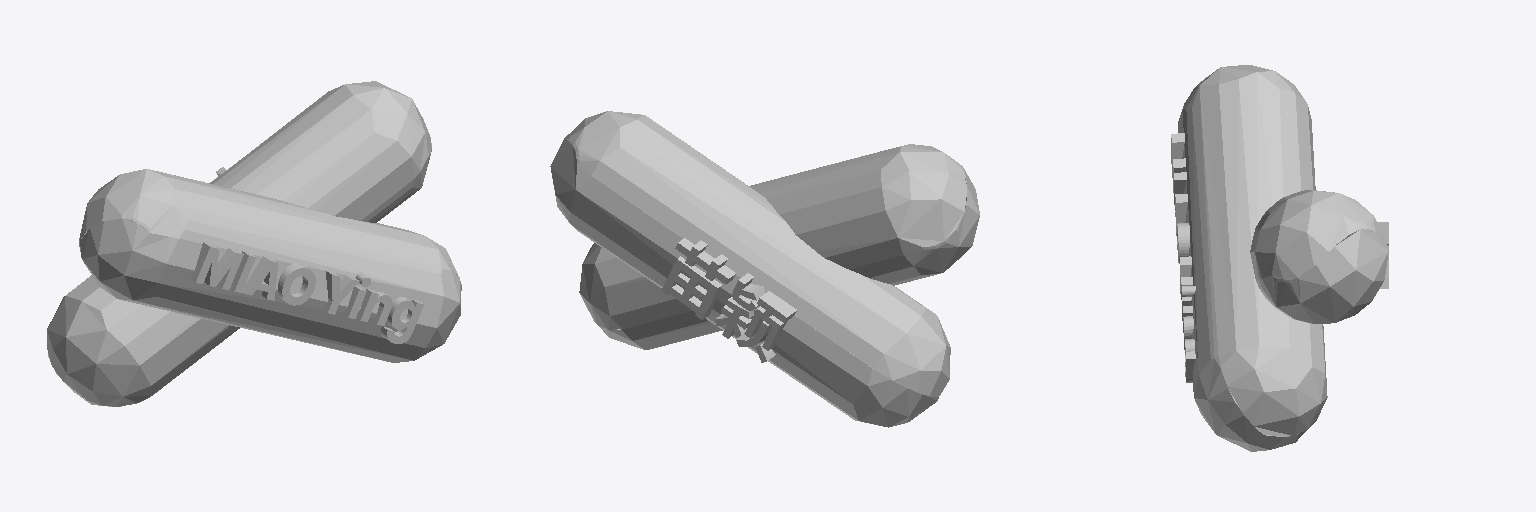
The model's file is MiaoYing.obj.
The picture shows the model from 3 angles: view 1: azimuth 30°, elevation 25°; view 2: azimuth 150°, elevation 25°; view 3: azimuth 270°, elevation 25°; orthographic projection.
Parts seen in each view (by area): view 1: root_3, root_2, node_id596; view 2: root_2, root_3, node_id583; view 3: root_3, root_2, node_id596.
Part boxes in pixels (x1,y1,x2,y2): root_3: (79,169,461,362); root_2: (47,81,431,406); node_id596: (190,242,423,343); root_2: (550,111,950,427); root_3: (579,144,979,349); node_id583: (662,238,796,362); root_3: (1178,65,1327,451); root_2: (1250,190,1388,323); node_id596: (1171,133,1195,382).
Bounding box in the file's own units: 0.289 × 0.1836 × 0.1447.